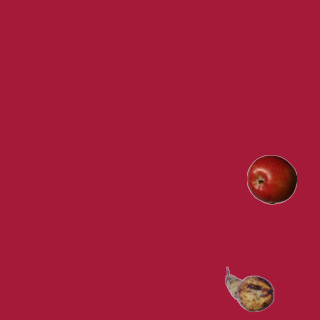Apple Braeburn: (246, 154, 296, 204)
Pear Abate: (224, 264, 274, 314)
